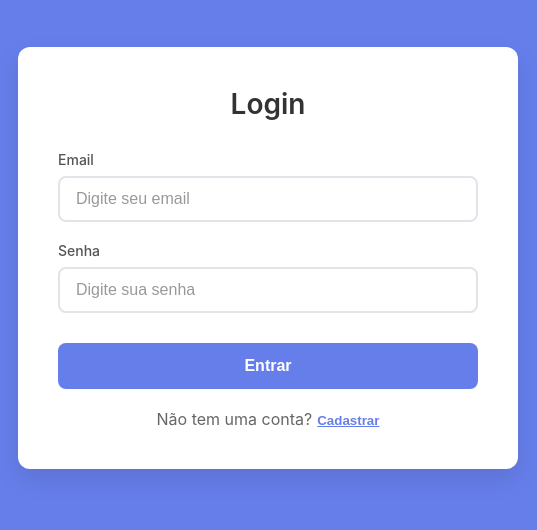
LoginPage › shows API error message on failed login
This screenshot has width=537, height=530.
Type "x@x.com" into the field labelled "Email" at (268, 199), box left=58, top=176, right=478, bottom=222
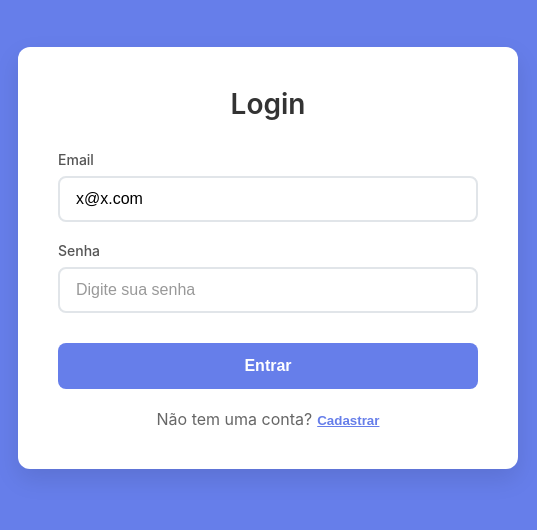
Type "bad" into the password field labelled "Senha" at (268, 290), box left=58, top=267, right=478, bottom=313
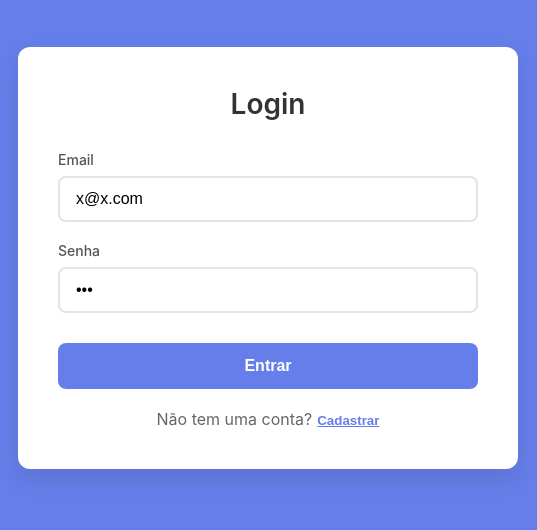
Click the button "Entrar" at (268, 366), box left=58, top=343, right=478, bottom=389
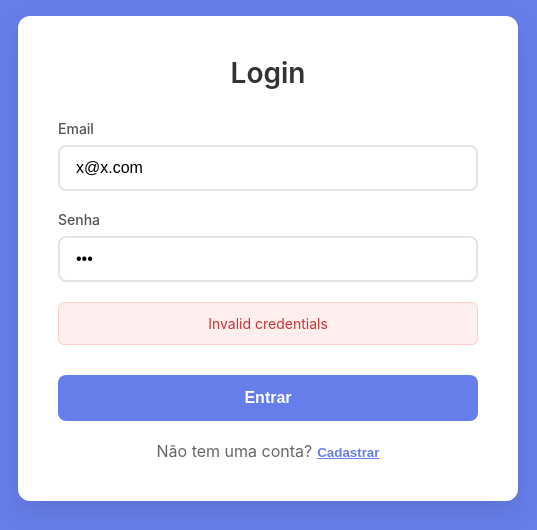
Result: the text "Invalid credentials" is shown at left=58, top=302, right=478, bottom=344
